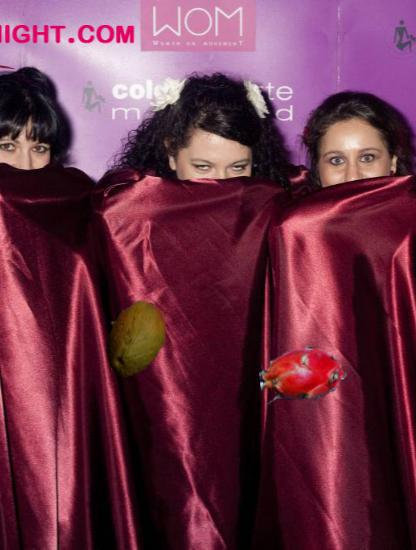Papaya: (94, 299, 175, 380)
Pitahaya: (260, 332, 347, 419)
